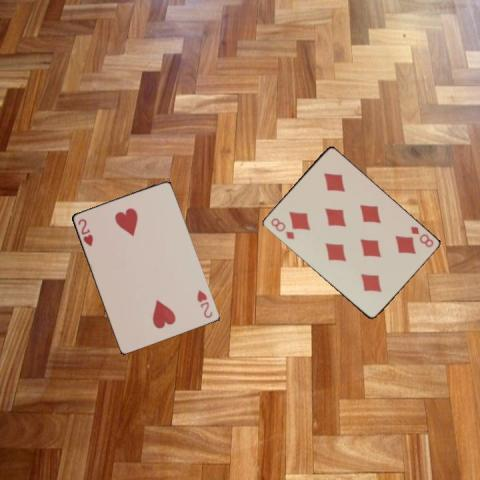2h: (75, 216, 94, 248), (194, 287, 213, 319)
8d: (267, 214, 296, 240), (407, 223, 435, 249)
